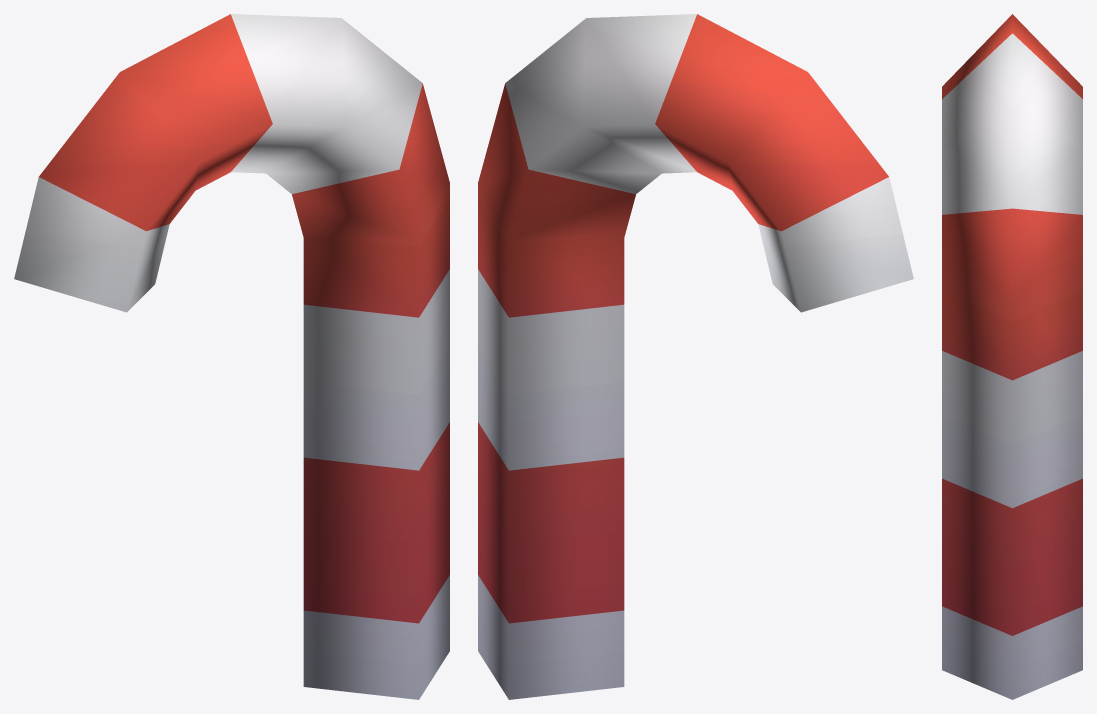
File: k-holiday-candy-cane-red.glb
The picture shows the model from 3 angles, left to right: view 1: azimuth 30°, elevation 25°; view 2: azimuth 150°, elevation 25°; view 3: azimuth 270°, elevation 25°; orthographic projection. The views are drawn at different scales.
Parts seen in each view (by area): view 1: candy-cane-red; view 2: candy-cane-red; view 3: candy-cane-red.
Boxes of the visible parts, bbox=[...] form: candy-cane-red: bbox=[14, 14, 449, 699]; candy-cane-red: bbox=[478, 14, 913, 699]; candy-cane-red: bbox=[942, 14, 1082, 699].
Size of the model in its own units: 0.2983 by 0.4518 by 0.1.
1 material, 1 textured.
